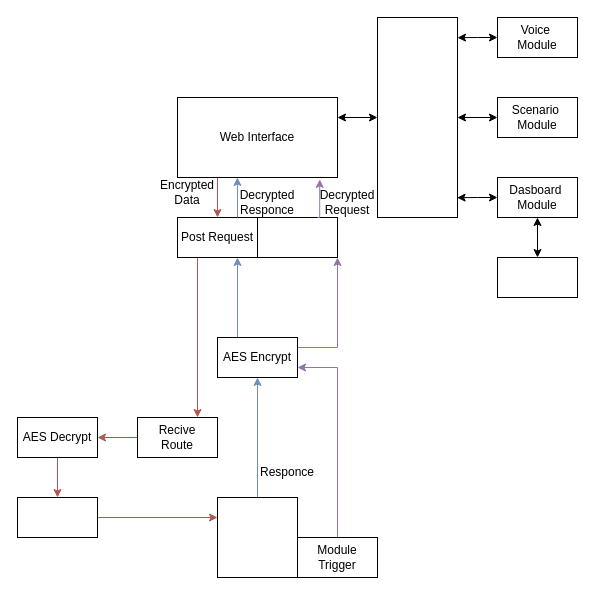
The diagram is 595 pixels wide and 595 high, and some of its shapes have lost their labels. Here are the shapes that lost their labels. From the top down, the centre of each, then its label:
the point at 417,117: Controller
the point at 297,237: IoT Recive Route
the point at 537,277: Widget Module
the point at 57,517: Command Handler Func
the point at 257,537: Module
